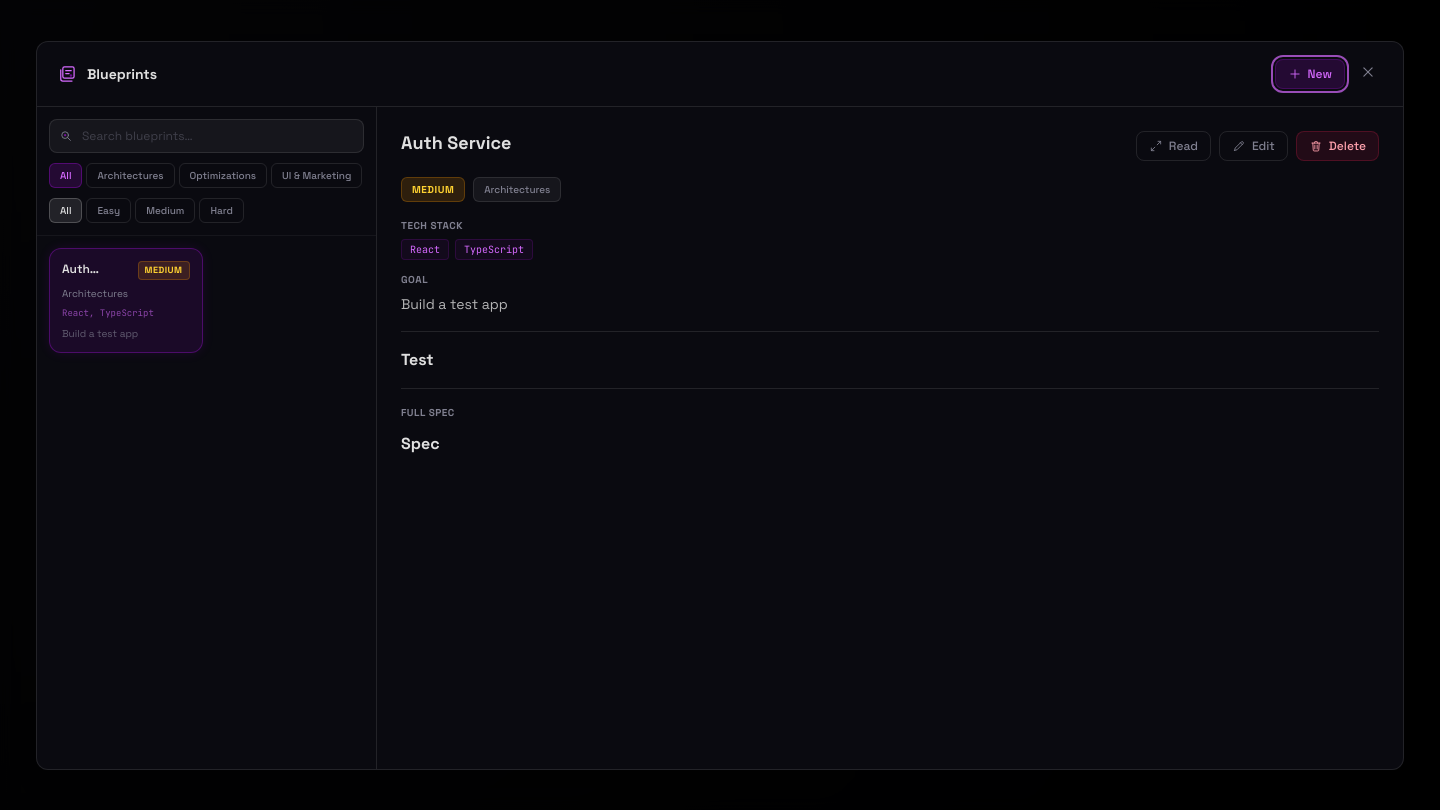
Test: BlueprintsGallery › deleting a blueprint › does not delete the blueprint while the confirmation is still open
What coordinates should you click on to do the following:
click the button "Delete"
I would click on:
 (1337, 146)
Its box is [1296,130,1379,160].
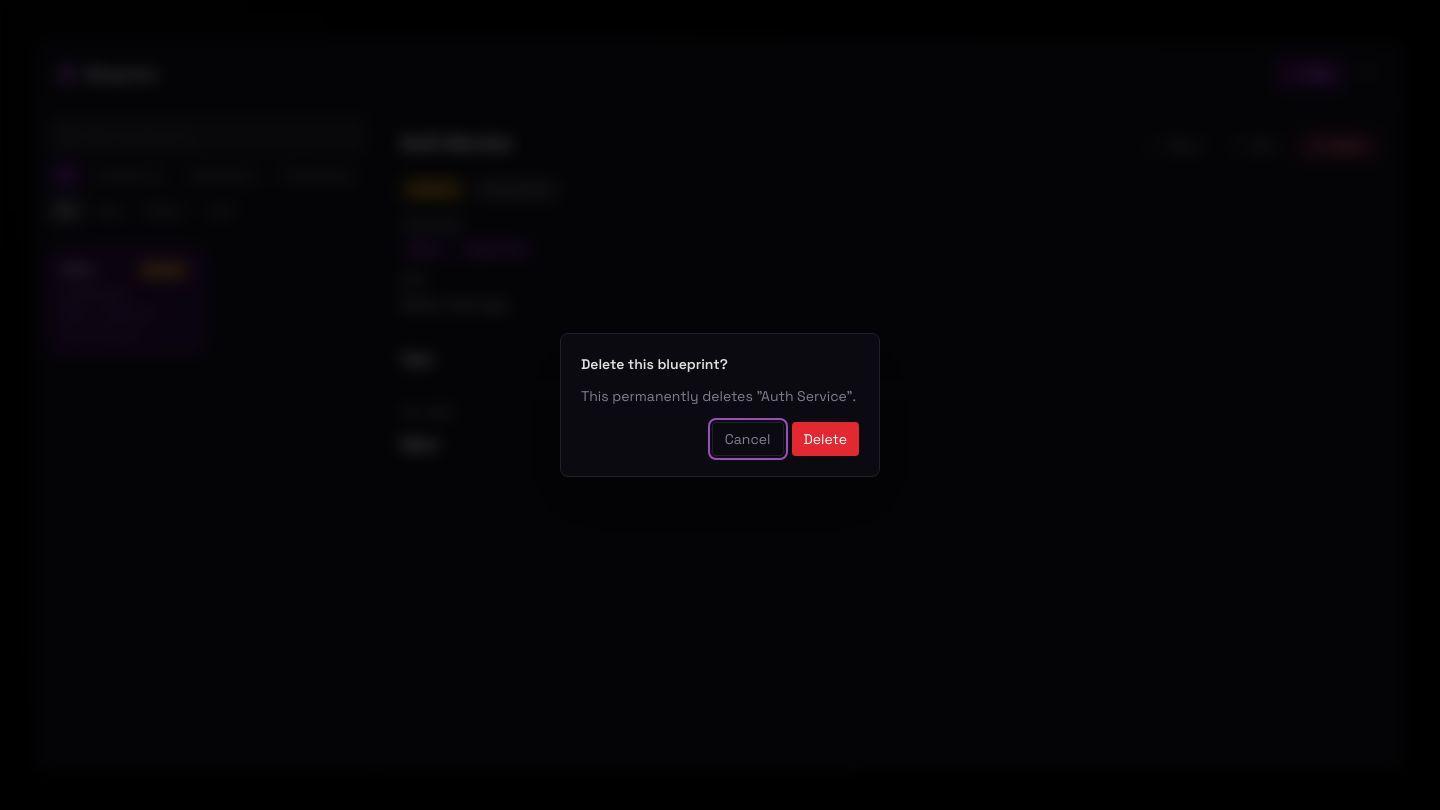
Expected: the dialog "Delete this blueprint?" is shown, [560,333,880,477]
